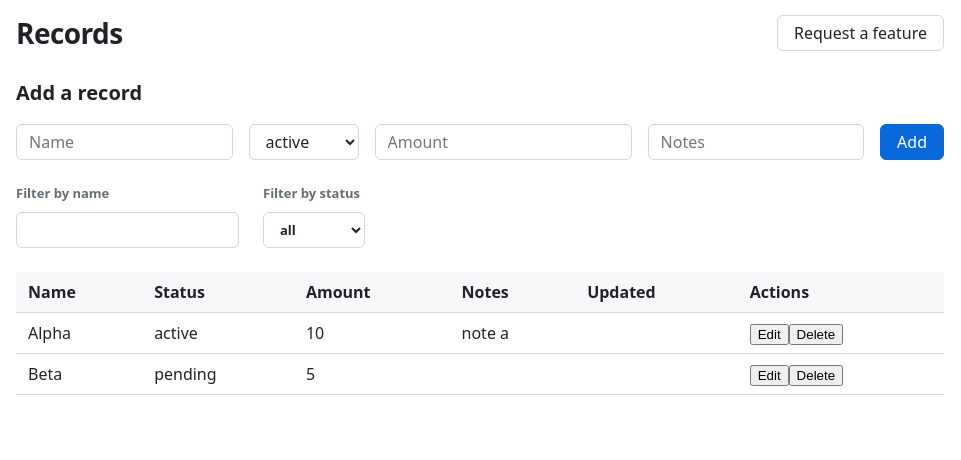
Test: DAN-9 · delete is optimistic with rollback › restores the row and surfaces the server error on DELETE failure
Expected: the text "Alpha" is shown, 16,312 -> 142,353
Click the button "Delete" in the row of "Alpha".
click(816, 334)  # box 789,324 -> 843,344
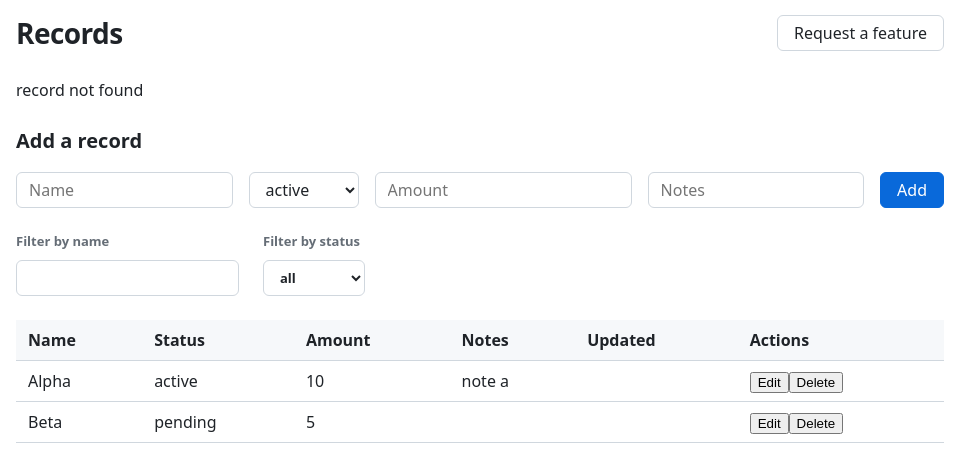
Expected: the text "Alpha" is shown, 16,360 -> 142,401
Result: the message reads "record not found" at 16,79 -> 143,101
